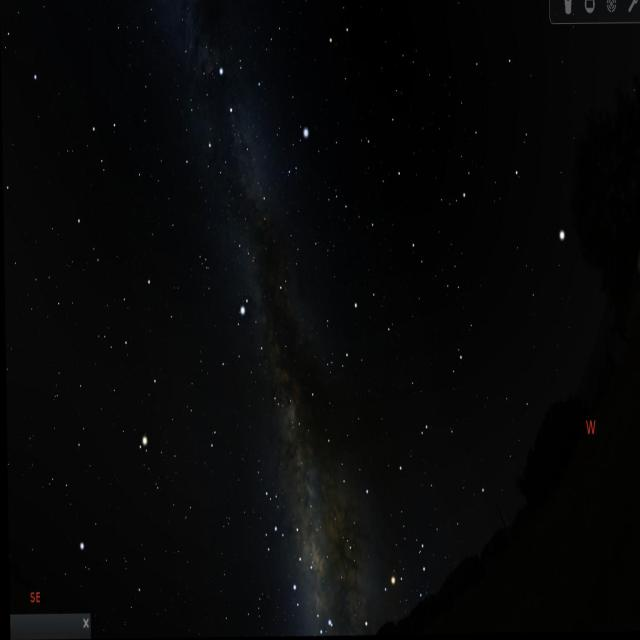aquila: (214, 276, 292, 420)
bootes: (435, 45, 579, 280)
cygnus: (202, 59, 269, 227)
lyra: (277, 126, 320, 186)
sagittarius: (242, 479, 312, 608)
scorpius: (312, 499, 431, 637)
